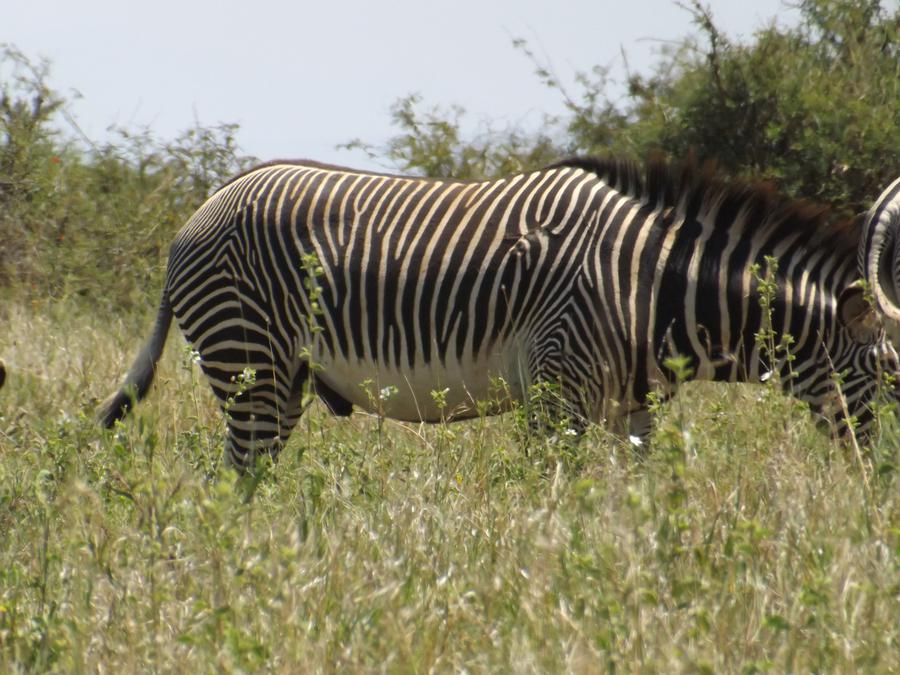zebra_grevys: (163, 133, 642, 414)
